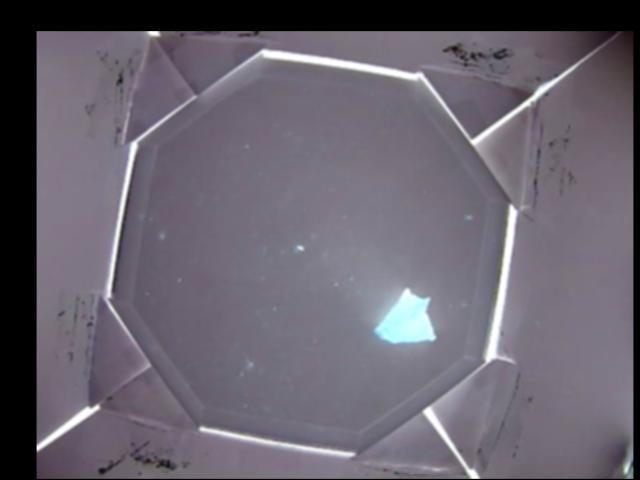Brisk: (373, 287, 435, 343)
